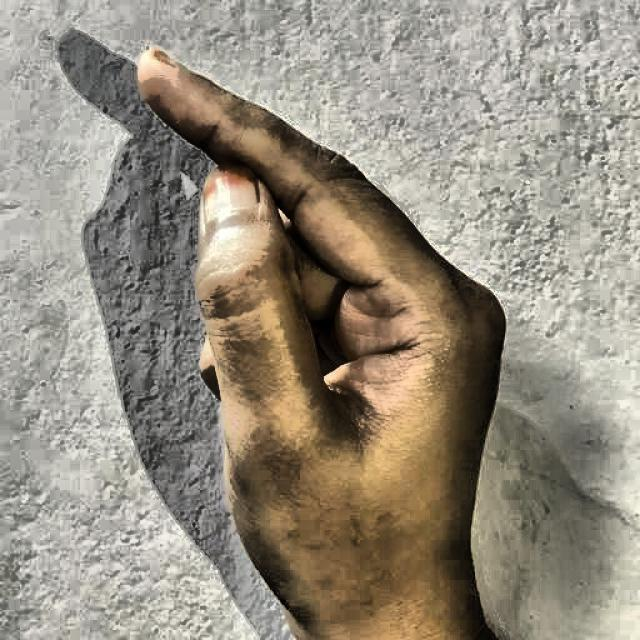Tha: (118, 33, 523, 640)
